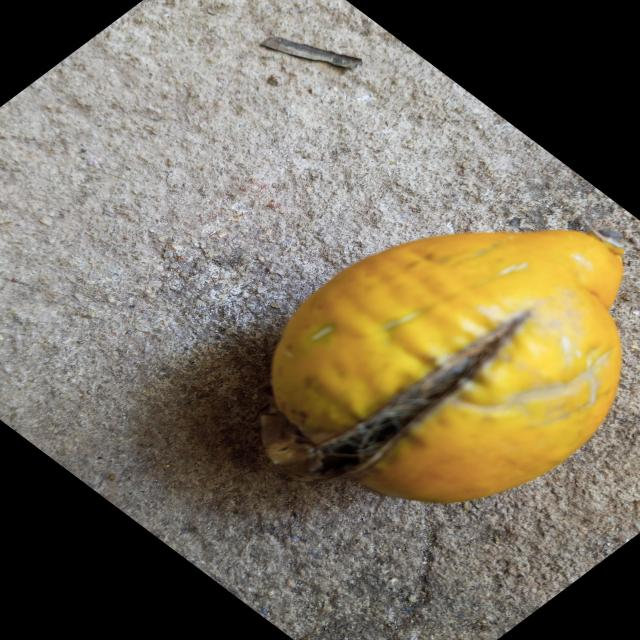damaged: (260, 230, 623, 503)
